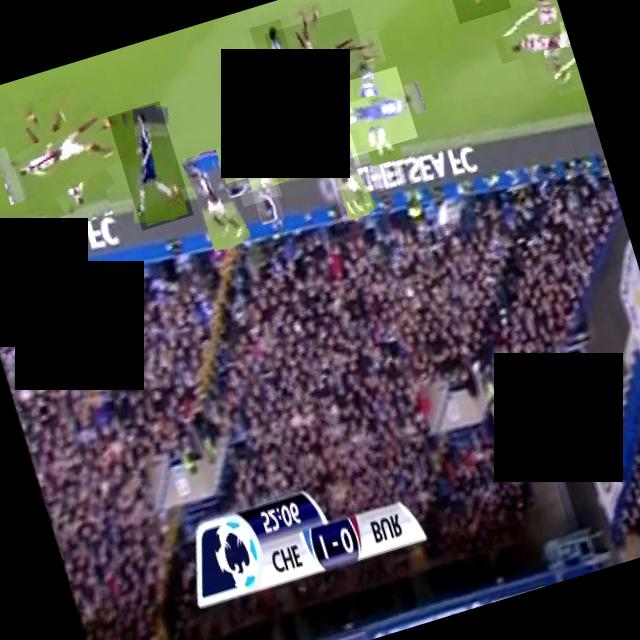soccer-player: (0, 92, 130, 222), (263, 7, 375, 119), (106, 100, 192, 230), (326, 65, 416, 157), (248, 18, 314, 143), (182, 146, 247, 252), (314, 121, 374, 223), (504, 0, 577, 82), (238, 142, 284, 225), (232, 157, 280, 205), (436, 0, 510, 22)
